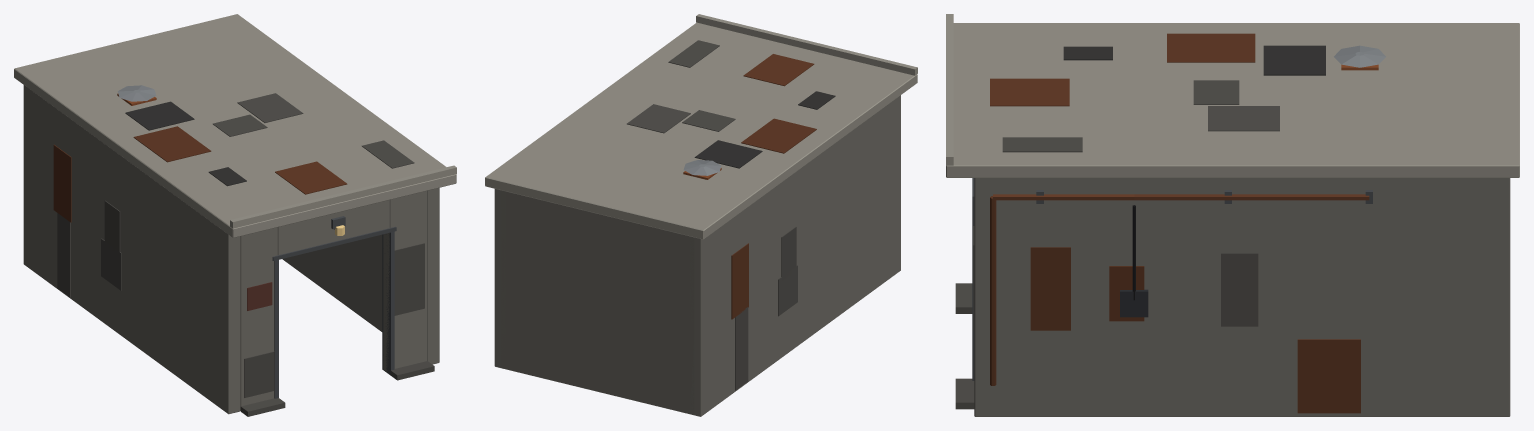
Rendered from bld_roof_stairhut.fbx.
3 renders of one model, left to right at view 1: azimuth 30°, elevation 25°; view 2: azimuth 150°, elevation 25°; view 3: azimuth 270°, elevation 25°, orthographic. The views are drawn at different scales.
Parts seen in each view (by area): view 1: bld_roof_stairhut; view 2: bld_roof_stairhut; view 3: bld_roof_stairhut.
Part boxes in pixels (x1=…): bld_roof_stairhut: x1=14, y1=14, x2=456, y2=416; bld_roof_stairhut: x1=485, y1=14, x2=917, y2=416; bld_roof_stairhut: x1=946, y1=14, x2=1519, y2=416.
Size of the model in its own units: 3.6 by 3.1 by 6.1.
